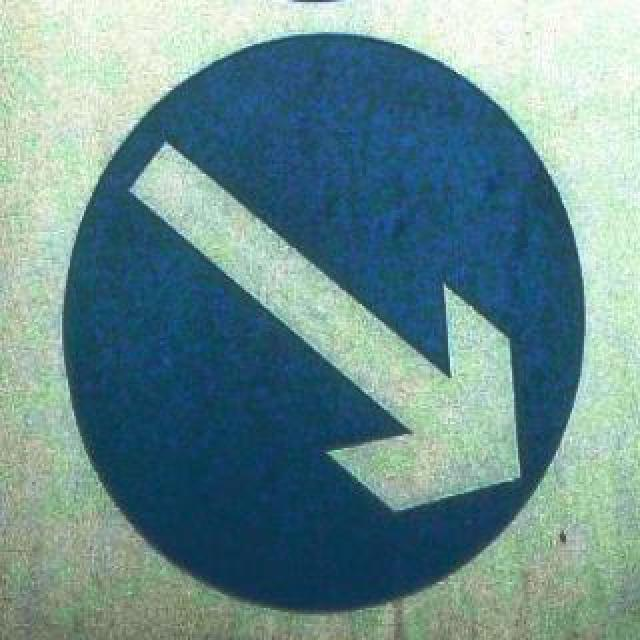keep right: (32, 12, 610, 624)
